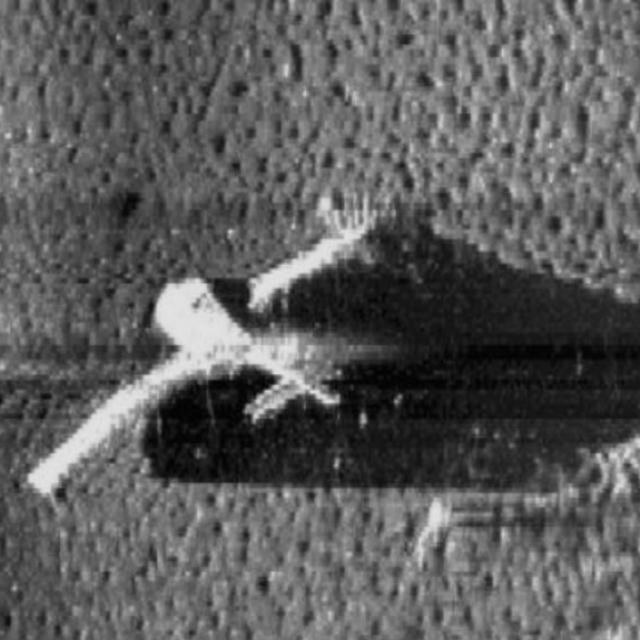plane: (21, 183, 432, 508)
